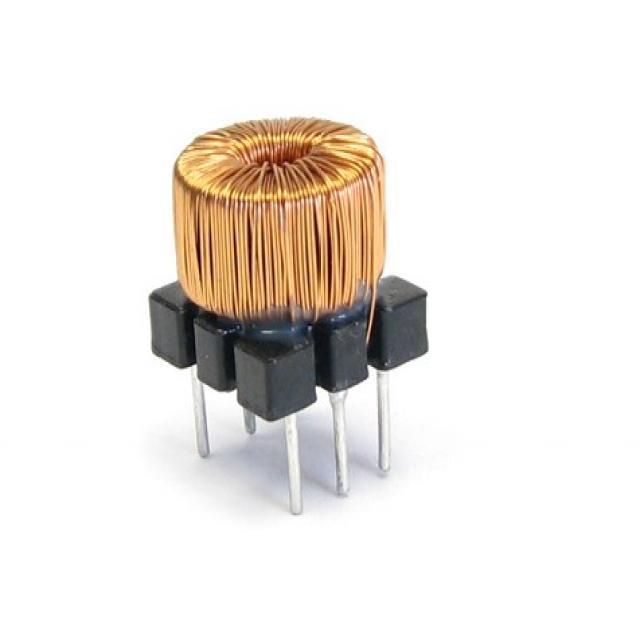Inductor: (172, 118, 385, 321)
